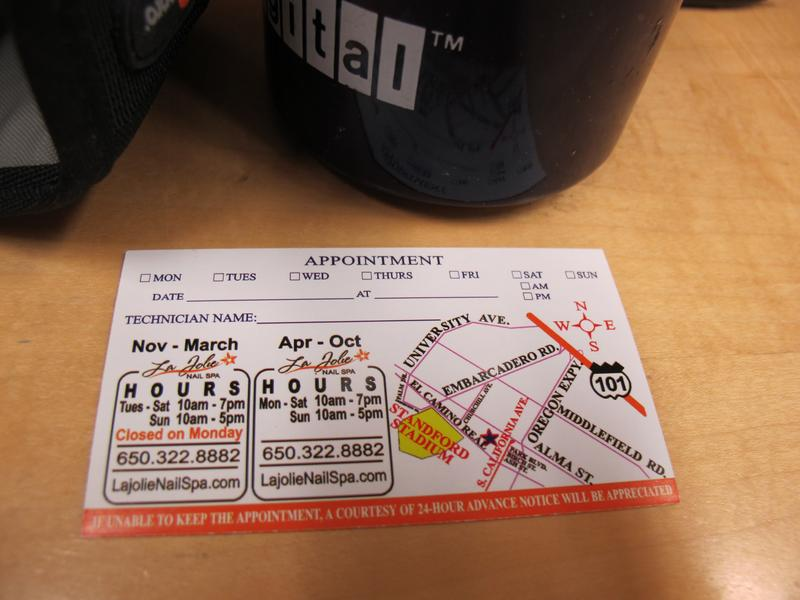card: (81, 242, 681, 541)
